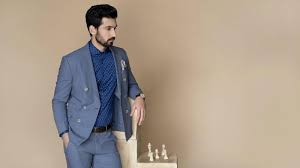Indian_Male: (93, 6, 119, 45)
